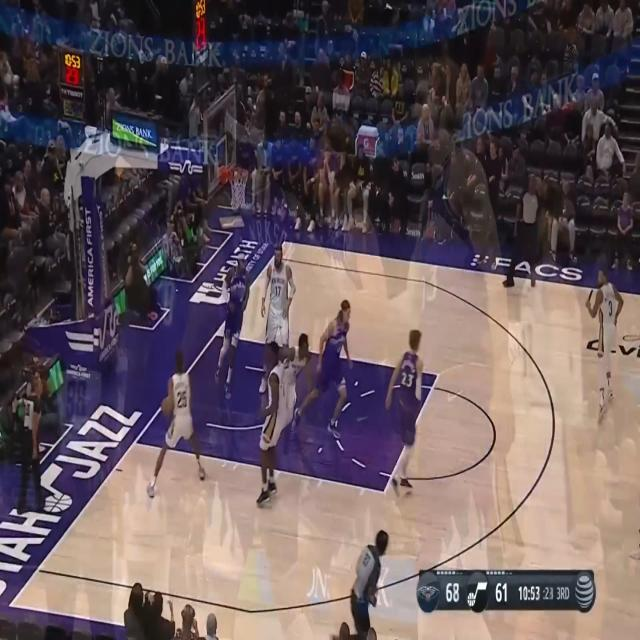Ball: (160, 398, 170, 420)
Clock: (59, 46, 84, 88), (194, 0, 207, 55)
Hoop: (228, 169, 250, 211)
Overlay: (416, 569, 596, 614)
Player: (147, 346, 206, 498), (292, 298, 354, 440), (385, 325, 424, 501), (585, 264, 624, 425), (261, 332, 313, 449), (257, 244, 296, 394), (212, 250, 250, 403), (253, 342, 287, 502)
Ref: (502, 172, 544, 288), (350, 529, 390, 640), (17, 372, 47, 514)
Scoreboard: (417, 570, 572, 613)
